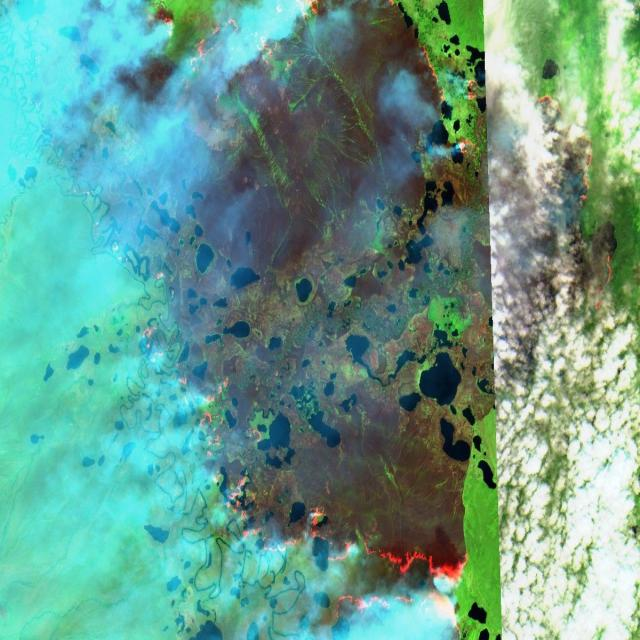fire: (140, 324, 470, 640), (127, 0, 483, 165)
